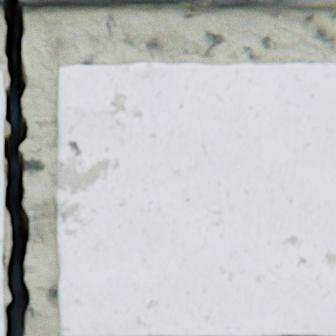brick: (56, 64, 335, 335), (0, 72, 4, 335)
broken_brick: (18, 0, 335, 8), (0, 0, 3, 6)
crack: (2, 0, 31, 335)
